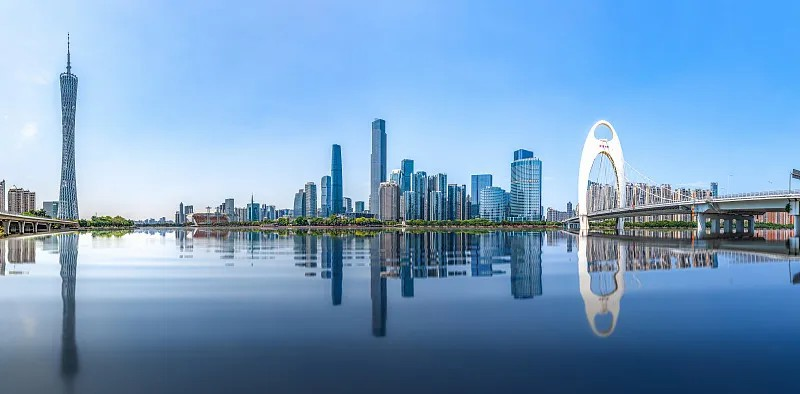Canton: (56, 32, 80, 220)
